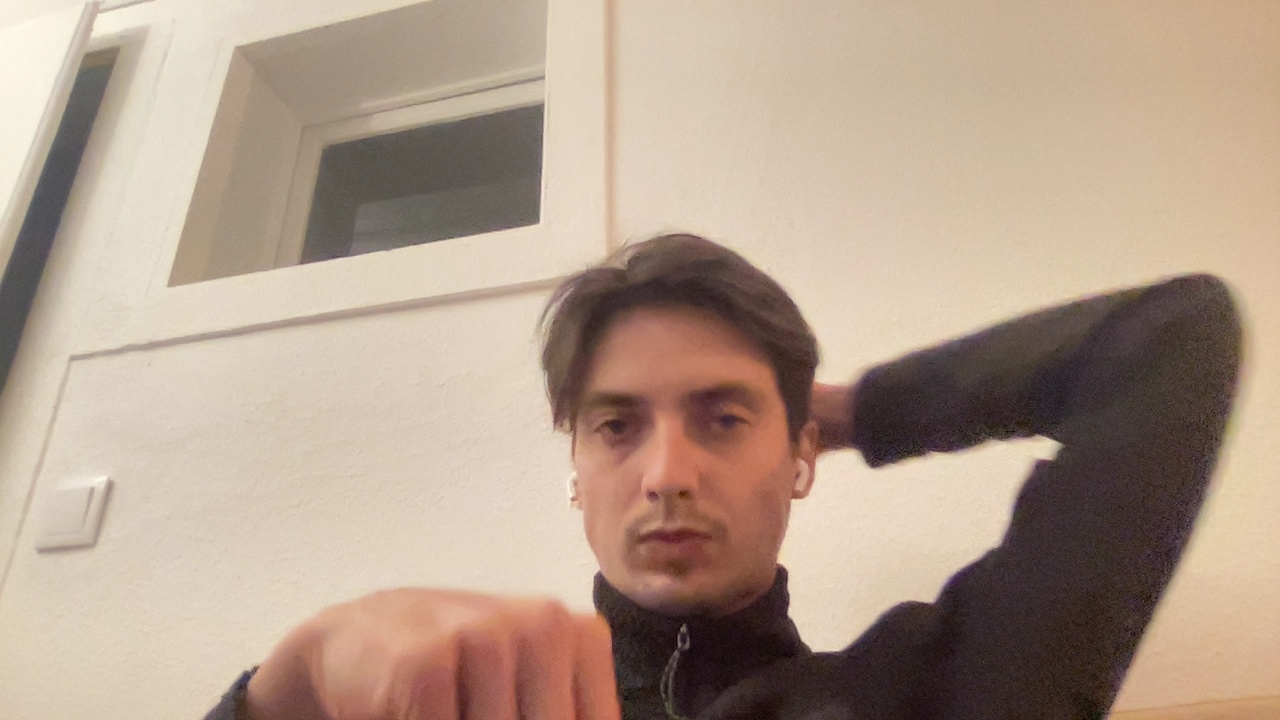no: (257, 585, 631, 720)
